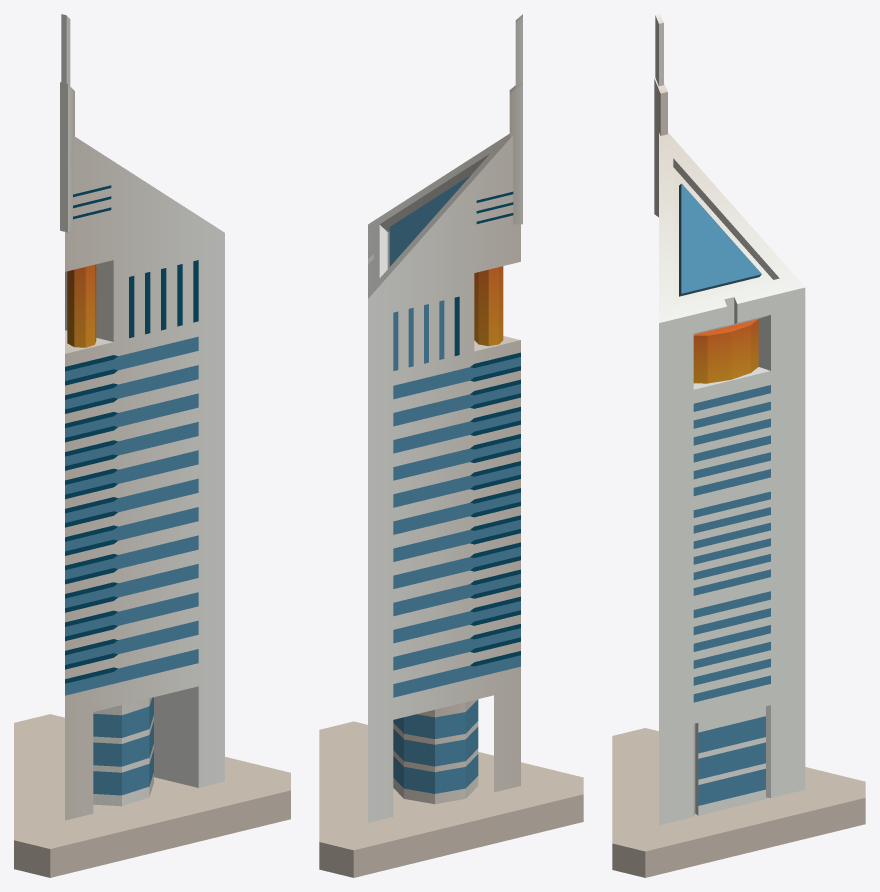
Rendered from emiratesTowerB.FBX.
3 renders of one model, left to right at view 1: azimuth 30°, elevation 25°; view 2: azimuth 150°, elevation 25°; view 3: azimuth 270°, elevation 25°, orthographic. The views are drawn at different scales.
Parts seen in each view (by area): view 1: emiratesTowerB; view 2: emiratesTowerB; view 3: emiratesTowerB.
Part boxes in pixels (left/top/right/bottom): emiratesTowerB: left=14, top=14, right=290, bottom=877; emiratesTowerB: left=319, top=14, right=583, bottom=877; emiratesTowerB: left=612, top=14, right=865, bottom=877.
Size of the model in its own units: 0.9341 by 2.7 by 0.8089.
